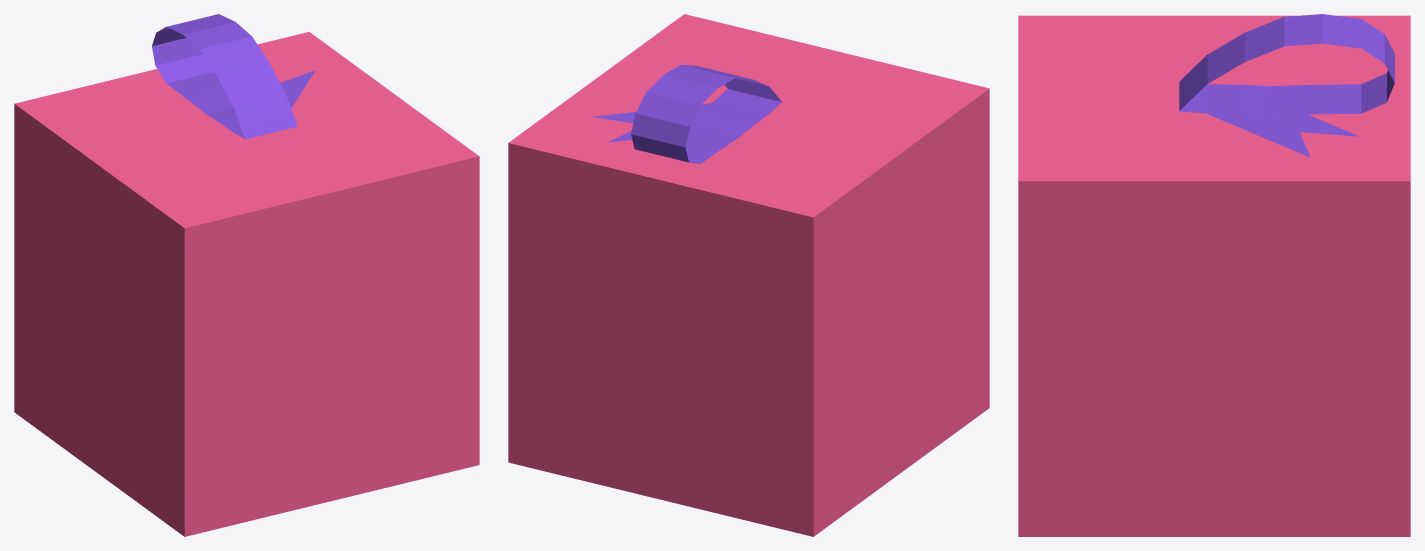
File: christmass-scene-4.glb
3 views of the same model, side by side, from view 1: azimuth 30°, elevation 25°; view 2: azimuth 150°, elevation 25°; view 3: azimuth 270°, elevation 25° (orthographic). The views are drawn at different scales.
Parts seen in each view (by area): view 1: Cube, Cylinder.011, Plane.006; view 2: Cube, Cylinder.011, Plane.006; view 3: Cube, Cylinder.011, Plane.006.
Boxes of the visible parts, x1,y1,x2,y2 form: Cube: [14, 32, 479, 536]; Cylinder.011: [152, 14, 297, 139]; Plane.006: [227, 70, 315, 109]; Cube: [508, 14, 989, 536]; Cylinder.011: [631, 65, 781, 163]; Plane.006: [592, 103, 720, 142]; Cube: [1018, 15, 1410, 536]; Cylinder.011: [1179, 14, 1394, 115]; Plane.006: [1208, 97, 1359, 157].
Size of the model in its own units: 0.3745 by 0.4534 by 0.3745.
